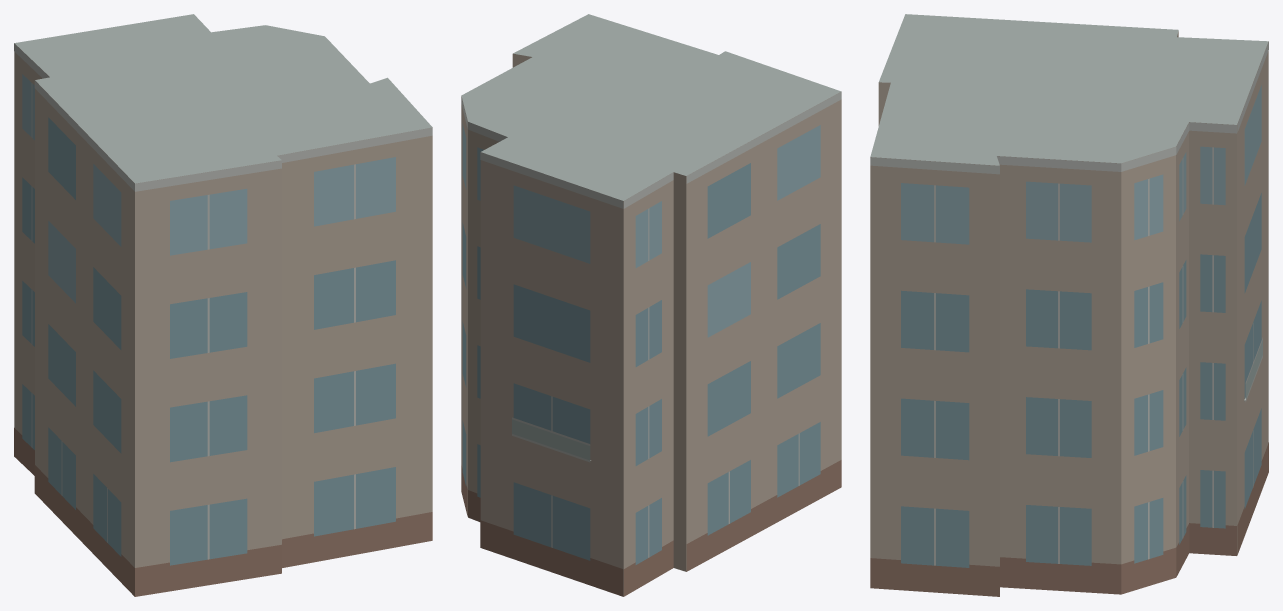
File: survey-upis-32698381.glb
3 views of the same model, side by side, from view 1: azimuth 30°, elevation 25°; view 2: azimuth 150°, elevation 25°; view 3: azimuth 270°, elevation 25° (orthographic). The views are drawn at different scales.
Parts seen in each view (by area): view 1: survey-upis-32698381.tmp; view 2: survey-upis-32698381.tmp; view 3: survey-upis-32698381.tmp.
Boxes of the visible parts, bbox=[...] form: survey-upis-32698381.tmp: bbox=[14, 14, 432, 596]; survey-upis-32698381.tmp: bbox=[461, 14, 841, 596]; survey-upis-32698381.tmp: bbox=[870, 14, 1268, 596].
Bounding box in the file's own units: 9.22 × 12.2 × 10.23.
